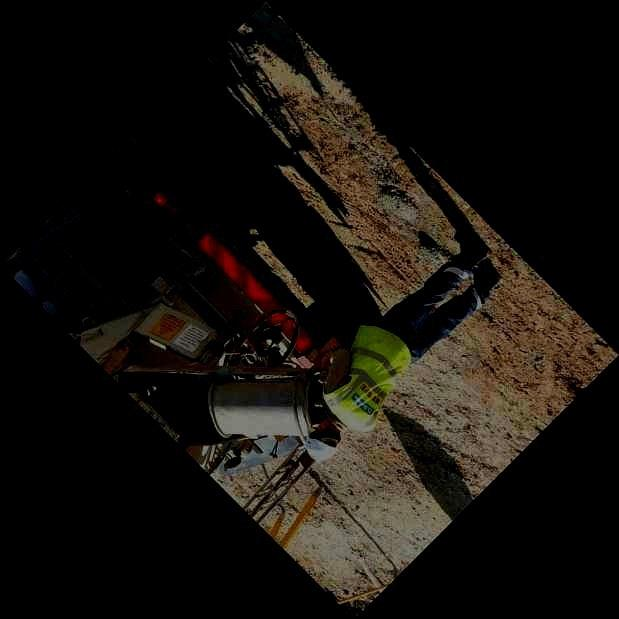helmet: (303, 418, 341, 464)
